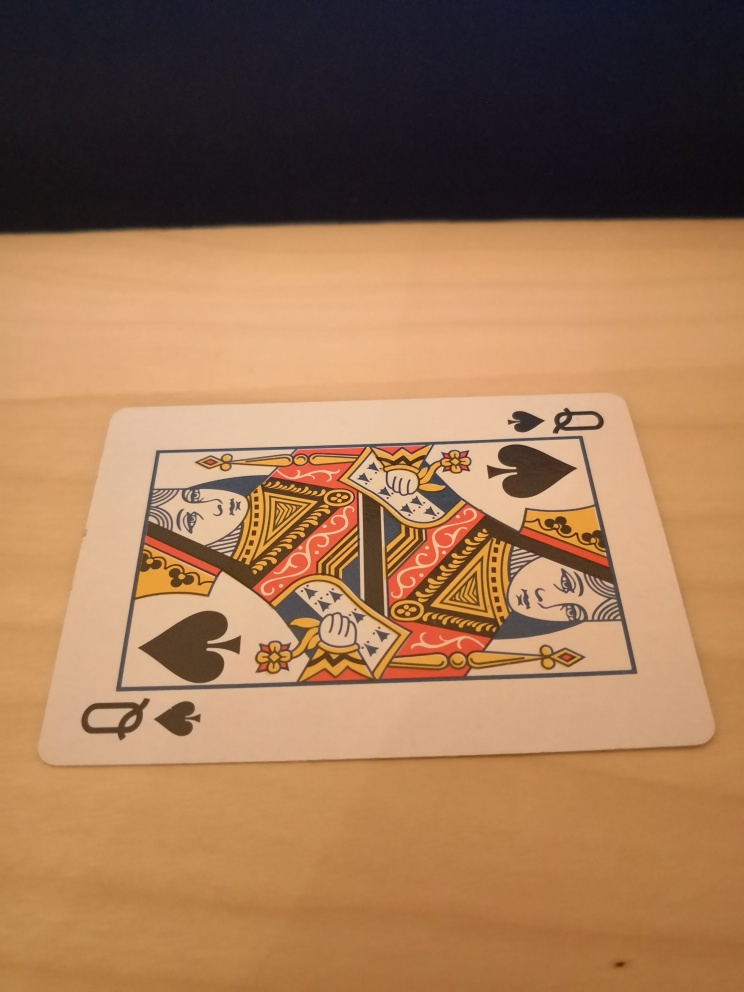queen: (37, 390, 717, 766)
